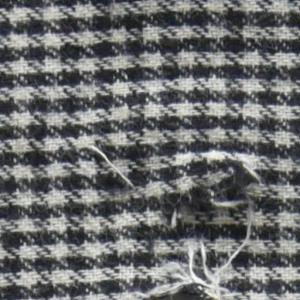Damage: (57, 114, 280, 300)
